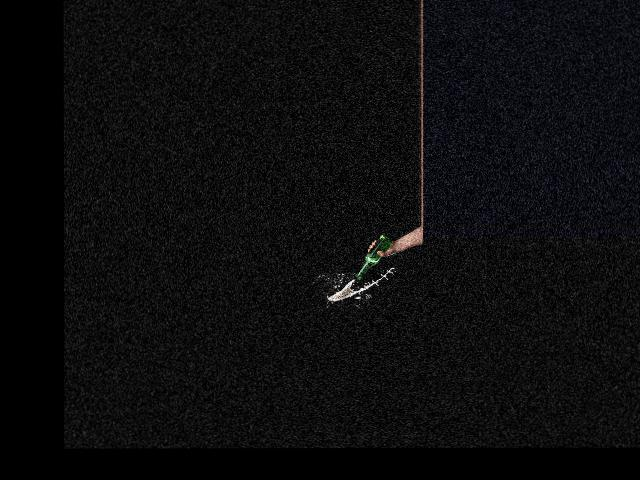beer: (355, 233, 391, 278)
